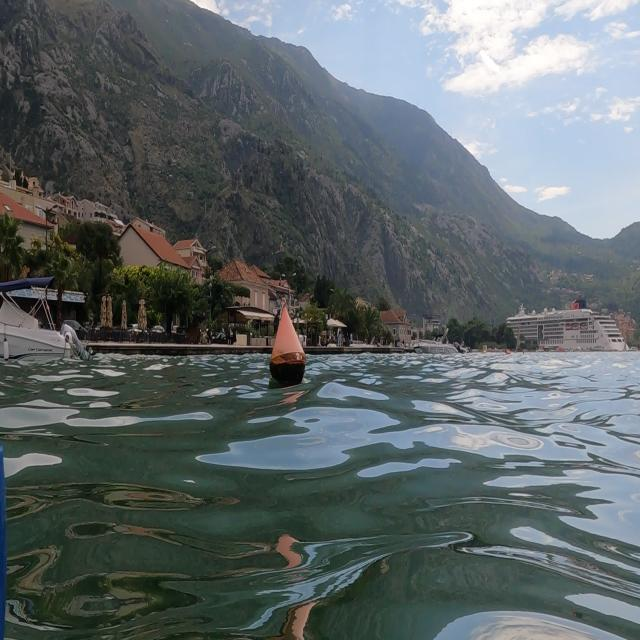boat: (0, 270, 105, 379), (504, 302, 635, 361)
buoy: (266, 296, 309, 390)
